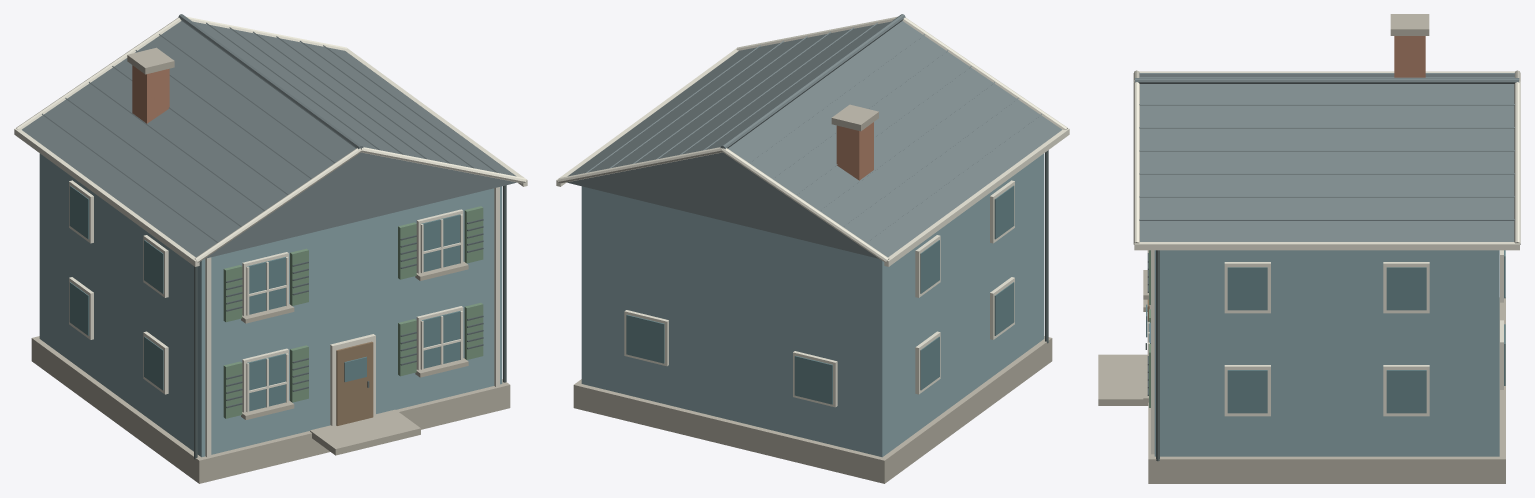
The picture shows the model from 3 angles, left to right: view 1: azimuth 30°, elevation 25°; view 2: azimuth 150°, elevation 25°; view 3: azimuth 270°, elevation 25°; orthographic projection. The views are drawn at different scales.
Size of the model in its own units: 9.73 by 8.9 by 10.04.
